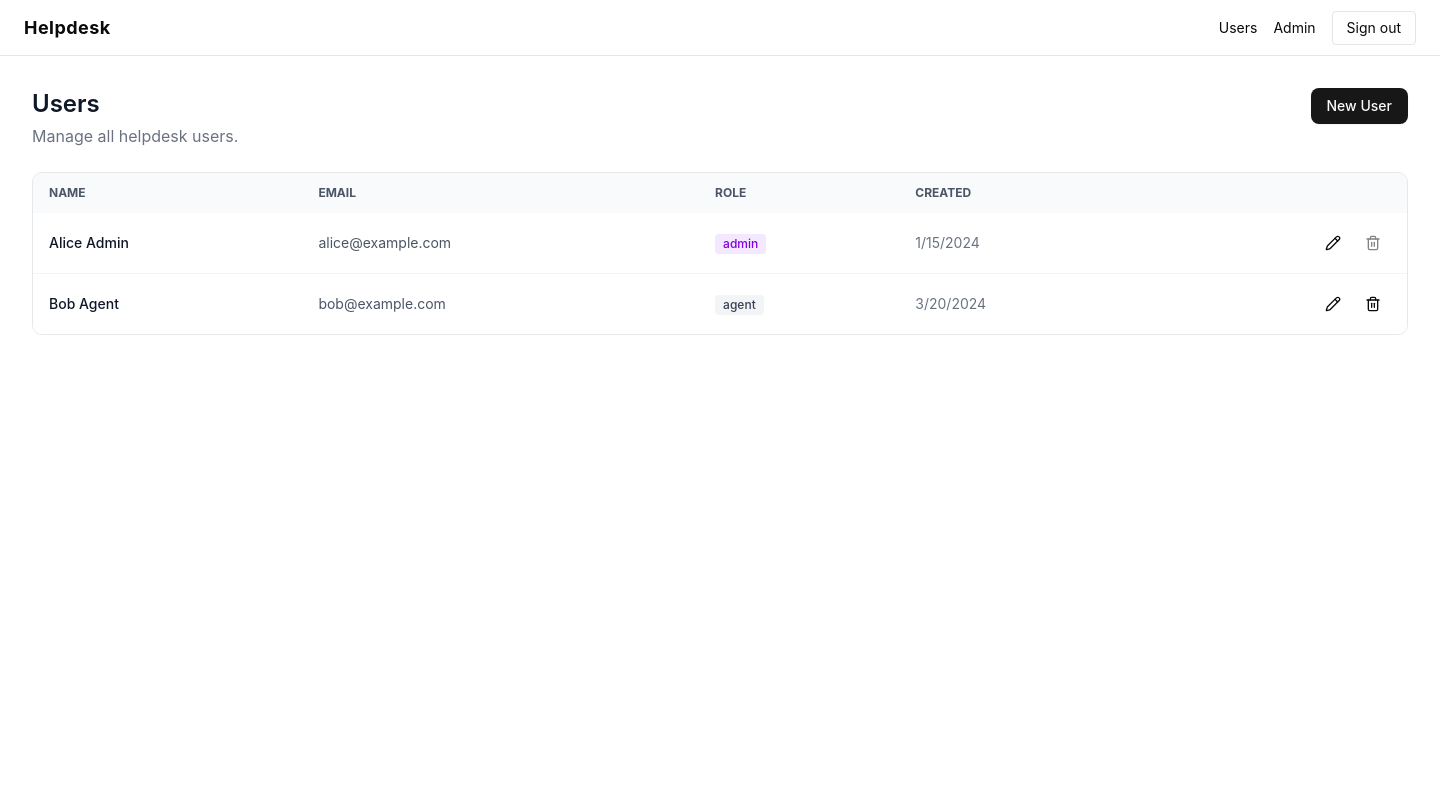
it: UsersPage › shows the dialog when the New User button is clicked
The image size is (1440, 810).
Click the button "New User": point(1359, 106) [1310, 88, 1408, 124]
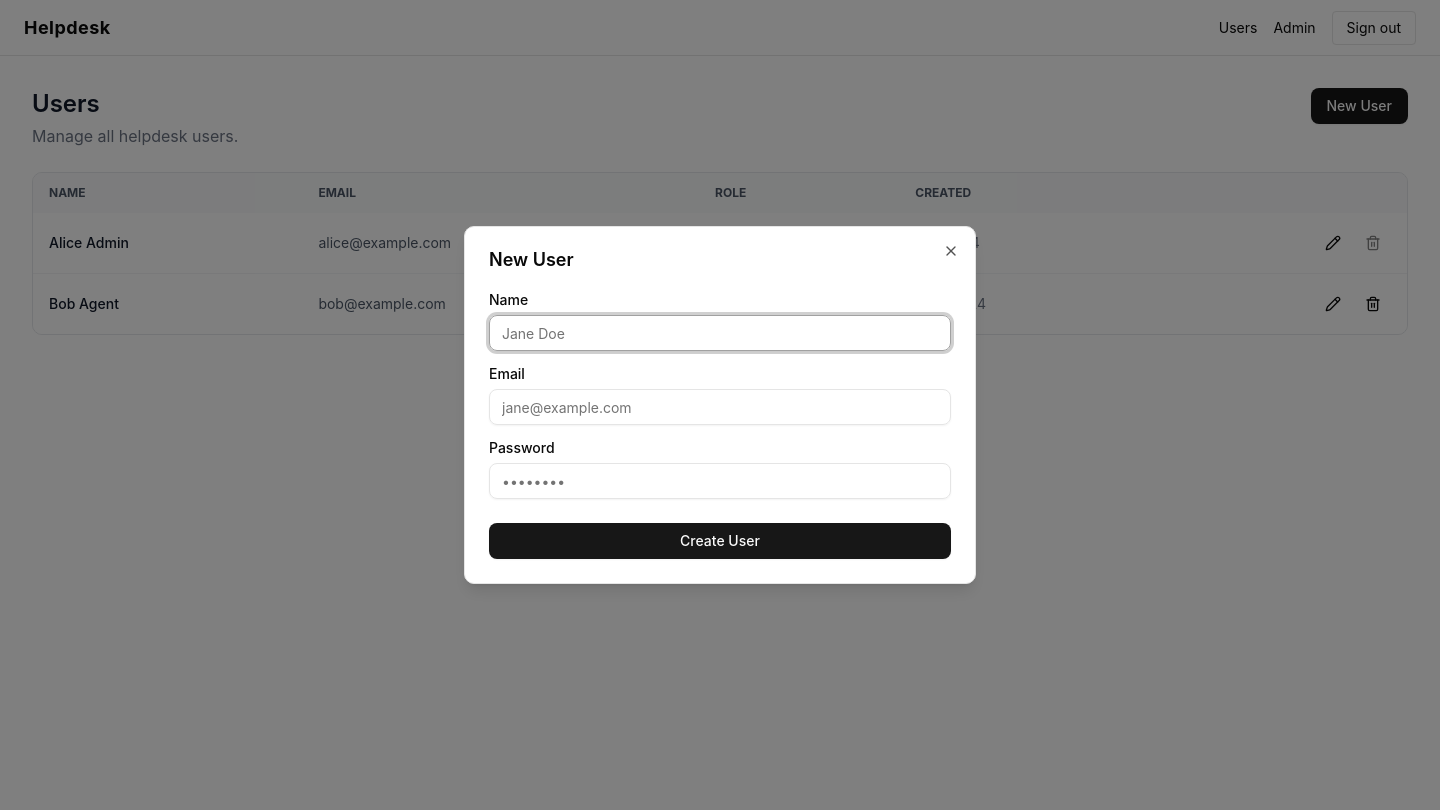
Now the dialog is shown, box [464, 226, 976, 584]
